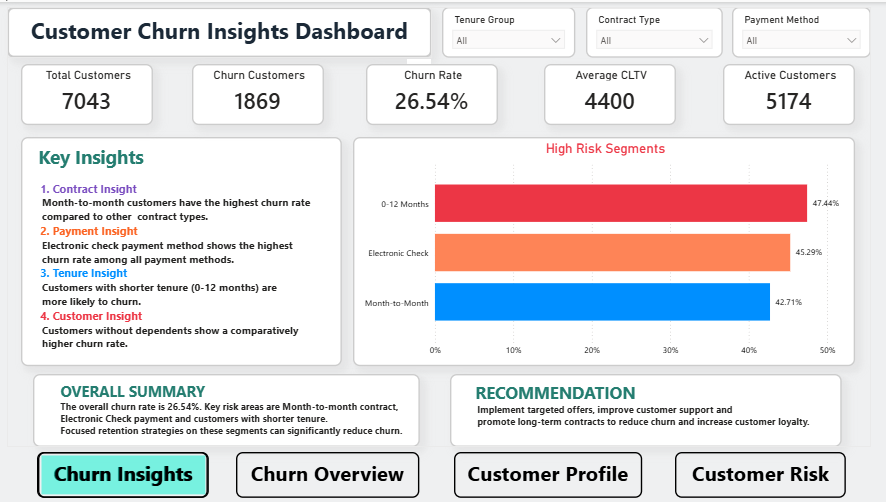

The dashboard page shown, as its layout file describes it:
{"tool":"powerbi","page":{"name":"Page 1","canvas":[1280,720],"ordinal":0},"visuals":[{"type":"columnChart","title":"Churn Rate By Contract Type","fields":{"Category":["telecomechurn dim_contract.contract"],"Y":["telecomechurn fact_customer_metrics.Churn rate"]},"box":[15.6,188.5,447.9,275],"z":0},{"type":"columnChart","title":"Churn Rate By Payment Method","fields":{"Category":["telecomechurn dim_contract.payment_method"],"Y":["telecomechurn fact_customer_metrics.Churn rate"]},"box":[469.1,188.5,439.4,275],"z":1000},{"type":"areaChart","title":"Churn Rate By Tenure Group","fields":{"Category":["telecomechurn fact_customer_metrics.Tenure Group"],"Y":["fact_customer_metrics.Churn rate"]},"box":[15.6,470.6,479.1,236.7],"z":2000},{"type":"pieChart","title":"Churn Rate By CLTV Segment","fields":{"Category":["fact_customer_metrics.CLTV Group"],"Y":["fact_customer_metrics.Churn rate"]},"box":[510.2,470.6,398.3,236.7],"z":3000},{"type":"barChart","title":"Top 7 Churn Reasons","fields":{"Category":["fact_customer_metrics.churn_reason"],"Y":["CountNonNull(fact_customer_metrics.churn_reason)"]},"box":[921.3,195.6,351.5,524.4],"z":4000},{"type":"textbox","box":[15.6,7.1,527.2,73.7],"z":5000},{"type":"cardVisual","title":"Total Customers","fields":{"Data":["fact_customer_metrics.Total_customer"]},"box":[32.6,89.3,189.9,87.9],"z":6000},{"type":"cardVisual","title":"Churn Customers","fields":{"Data":["fact_customer_metrics.Churn Customers"]},"box":[279.2,89.3,189.9,87.9],"z":7000},{"type":"cardVisual","title":"Churn Rate","fields":{"Data":["fact_customer_metrics.Churn rate"]},"box":[530.1,89.3,189.9,87.9],"z":8000},{"type":"cardVisual","title":"Average CLTV","fields":{"Data":["fact_customer_metrics.Average CLTV"]},"box":[786.6,89.3,189.9,87.9],"z":9000},{"type":"cardVisual","title":"Active Customers","fields":{"Data":["fact_customer_metrics.Active Customers"]},"box":[1044.6,89.3,189.9,87.9],"z":10000},{"type":"slicer","fields":{"Values":["fact_customer_metrics.Tenure Group"]},"box":[572.6,7.1,214,73.7],"z":11000},{"type":"slicer","fields":{"Values":["dim_contract.contract"]},"box":[813.5,7.1,214,73.7],"z":12000},{"type":"slicer","fields":{"Values":["dim_contract.payment_method"]},"box":[1044.6,7.1,214,73.7],"z":13000}]}

Visuals, with their boxes in screenshot pixels (x1, y1, x2, y2), scaled from the page's 1280x720 canvas onto the 886x502 screenshot:
"Churn Rate By Contract Type" columnChart: select_region(11, 131, 321, 323)
"Churn Rate By Payment Method" columnChart: select_region(325, 131, 629, 323)
"Churn Rate By Tenure Group" areaChart: select_region(11, 328, 342, 493)
"Churn Rate By CLTV Segment" pieChart: select_region(353, 328, 629, 493)
"Top 7 Churn Reasons" barChart: select_region(638, 136, 881, 501)
textbox: select_region(11, 5, 376, 56)
"Total Customers" cardVisual: select_region(23, 62, 154, 124)
"Churn Customers" cardVisual: select_region(193, 62, 325, 124)
"Churn Rate" cardVisual: select_region(367, 62, 498, 124)
"Average CLTV" cardVisual: select_region(544, 62, 676, 124)
"Active Customers" cardVisual: select_region(723, 62, 855, 124)
slicer - fact_customer_metrics.Tenure Group: select_region(396, 5, 544, 56)
slicer - dim_contract.contract: select_region(563, 5, 711, 56)
slicer - dim_contract.payment_method: select_region(723, 5, 871, 56)
